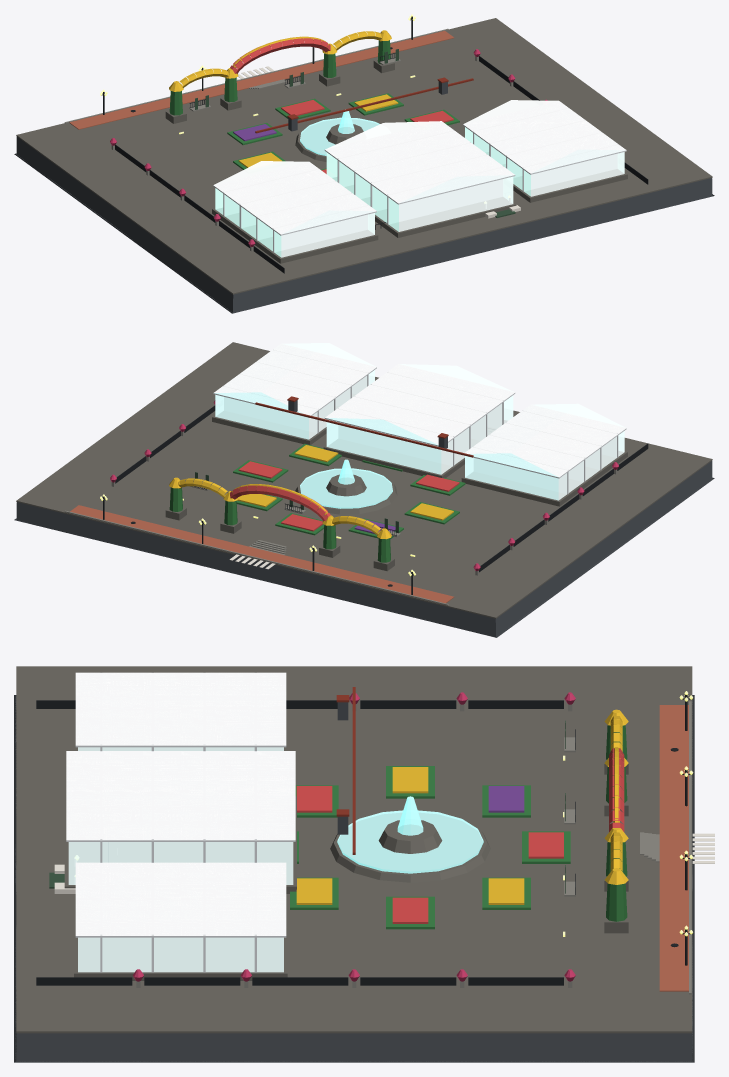
File: lm_14_vuon_hoa_tp.glb
3 renders of one model, top to bottom at view 1: azimuth 30°, elevation 25°; view 2: azimuth 150°, elevation 25°; view 3: azimuth 270°, elevation 25°, orthographic. The views are drawn at different scales.
Visible parts, largest first — view 1: Foundation_Plinth_Trim, Foundation_Skirt, FlowerPark_Orchid_Glasshouses, FlowerPark_Conservatory_Roof_0, FlowerPark_Stone_Curbs, FlowerPark_Conservatory_Frames, FlowerPark_Conservatory_Roof_0_Trim, FlowerPark_Conservatory_Roof_-24, FlowerPark_Conservatory_Roof_24, FlowerPark_Conservatory_Roof_-24_Trim, FlowerPark_Conservatory_Roof_24_Trim, Phase2_Interlocking_Brick_Sidewalk (+7 smaller); view 2: Foundation_Plinth_Trim, Foundation_Skirt, FlowerPark_Orchid_Glasshouses, FlowerPark_Stone_Curbs, FlowerPark_Conservatory_Roof_0, FlowerPark_Conservatory_Roof_-24, FlowerPark_Conservatory_Roof_0_Trim, FlowerPark_Conservatory_Frames, FlowerPark_Conservatory_Roof_24, FlowerPark_Conservatory_Roof_-24_Trim, FlowerPark_Conservatory_Roof_24_Trim, Phase2_Interlocking_Brick_Sidewalk (+7 smaller); view 3: Foundation_Plinth_Trim, FlowerPark_Stone_Curbs, Foundation_Skirt, FlowerPark_Conservatory_Roof_0, FlowerPark_Conservatory_Roof_0_Trim, FlowerPark_Conservatory_Roof_-24, FlowerPark_Conservatory_Roof_24, FlowerPark_Conservatory_Roof_-24_Trim, FlowerPark_Conservatory_Roof_24_Trim, FlowerPark_Orchid_Glasshouses, Phase2_Interlocking_Brick_Sidewalk, Phase2_WroughtIron_Balconies_Railings_Manholes (+10 smaller).
Part boxes in pixels (left/top/right/bottom): Foundation_Plinth_Trim: left=16, top=18, right=712, bottom=294; Foundation_Skirt: left=14, top=137, right=714, bottom=313; FlowerPark_Orchid_Glasshouses: left=215, top=127, right=624, bottom=257; FlowerPark_Conservatory_Roof_0: left=325, top=121, right=514, bottom=203; FlowerPark_Stone_Curbs: left=165, top=59, right=627, bottom=263; FlowerPark_Conservatory_Frames: left=223, top=107, right=617, bottom=252; FlowerPark_Conservatory_Roof_0_Trim: left=324, top=122, right=515, bottom=204; FlowerPark_Conservatory_Roof_-24: left=213, top=161, right=376, bottom=234; FlowerPark_Conservatory_Roof_24: left=463, top=100, right=626, bottom=173; FlowerPark_Conservatory_Roof_-24_Trim: left=213, top=162, right=376, bottom=235; FlowerPark_Conservatory_Roof_24_Trim: left=463, top=101, right=626, bottom=174; Phase2_Interlocking_Brick_Sidewalk: left=69, top=30, right=454, bottom=129; Foundation_Plinth_Trim: left=16, top=342, right=712, bottom=618; Foundation_Skirt: left=14, top=461, right=714, bottom=637; FlowerPark_Orchid_Glasshouses: left=215, top=370, right=624, bottom=500; FlowerPark_Stone_Curbs: left=165, top=394, right=627, bottom=571; FlowerPark_Conservatory_Roof_0: left=325, top=364, right=514, bottom=445; FlowerPark_Conservatory_Roof_-24: left=464, top=403, right=626, bottom=477; FlowerPark_Conservatory_Roof_0_Trim: left=324, top=364, right=515, bottom=446; FlowerPark_Conservatory_Frames: left=223, top=349, right=618, bottom=494; FlowerPark_Conservatory_Roof_24: left=214, top=343, right=376, bottom=415; FlowerPark_Conservatory_Roof_-24_Trim: left=466, top=405, right=626, bottom=478; FlowerPark_Conservatory_Roof_24_Trim: left=213, top=344, right=376, bottom=415; Phase2_Interlocking_Brick_Sidewalk: left=70, top=505, right=454, bottom=603; Foundation_Plinth_Trim: left=16, top=666, right=692, bottom=1033; FlowerPark_Stone_Curbs: left=64, top=709, right=628, bottom=980; Foundation_Skirt: left=14, top=695, right=694, bottom=1062; FlowerPark_Conservatory_Roof_0: left=66, top=751, right=295, bottom=840; FlowerPark_Conservatory_Roof_0_Trim: left=66, top=751, right=295, bottom=841; FlowerPark_Conservatory_Roof_-24: left=75, top=672, right=286, bottom=745; FlowerPark_Conservatory_Roof_24: left=75, top=862, right=286, bottom=935; FlowerPark_Conservatory_Roof_-24_Trim: left=75, top=673, right=286, bottom=747; FlowerPark_Conservatory_Roof_24_Trim: left=75, top=863, right=286, bottom=937; FlowerPark_Orchid_Glasshouses: left=68, top=747, right=293, bottom=972; Phase2_Interlocking_Brick_Sidewalk: left=659, top=705, right=688, bottom=991; Phase2_WroughtIron_Balconies_Railings_Manholes: left=36, top=694, right=690, bottom=985.
Bounding box in the file's own units: 92.82 × 14.61 × 74.82.
